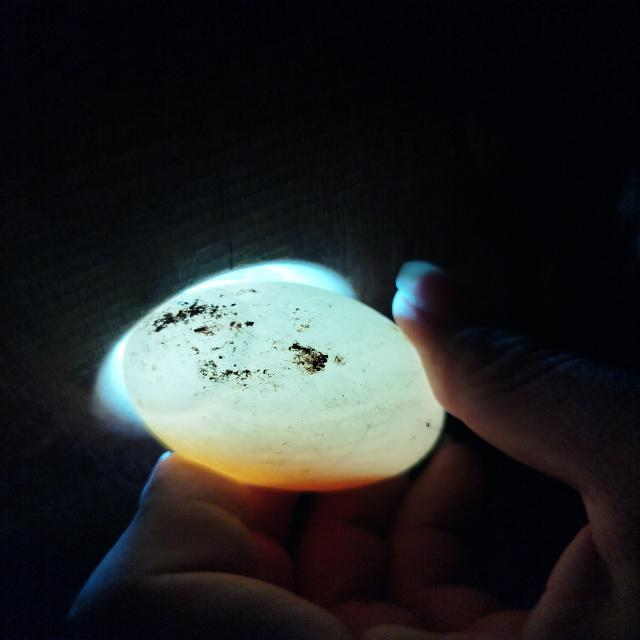Camara de Ar: (123, 286, 252, 411)
Gema Quebrada: (185, 454, 385, 494)
